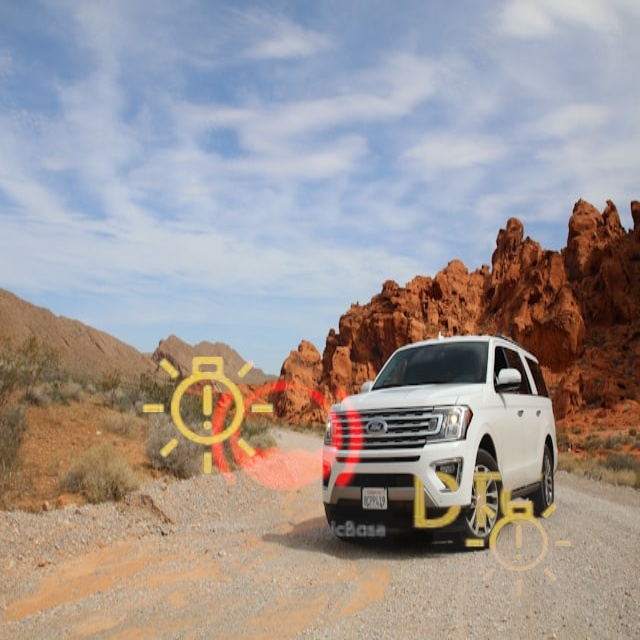symbol: (101, 308, 319, 526), (177, 330, 394, 547), (379, 402, 578, 601), (433, 462, 609, 638)
